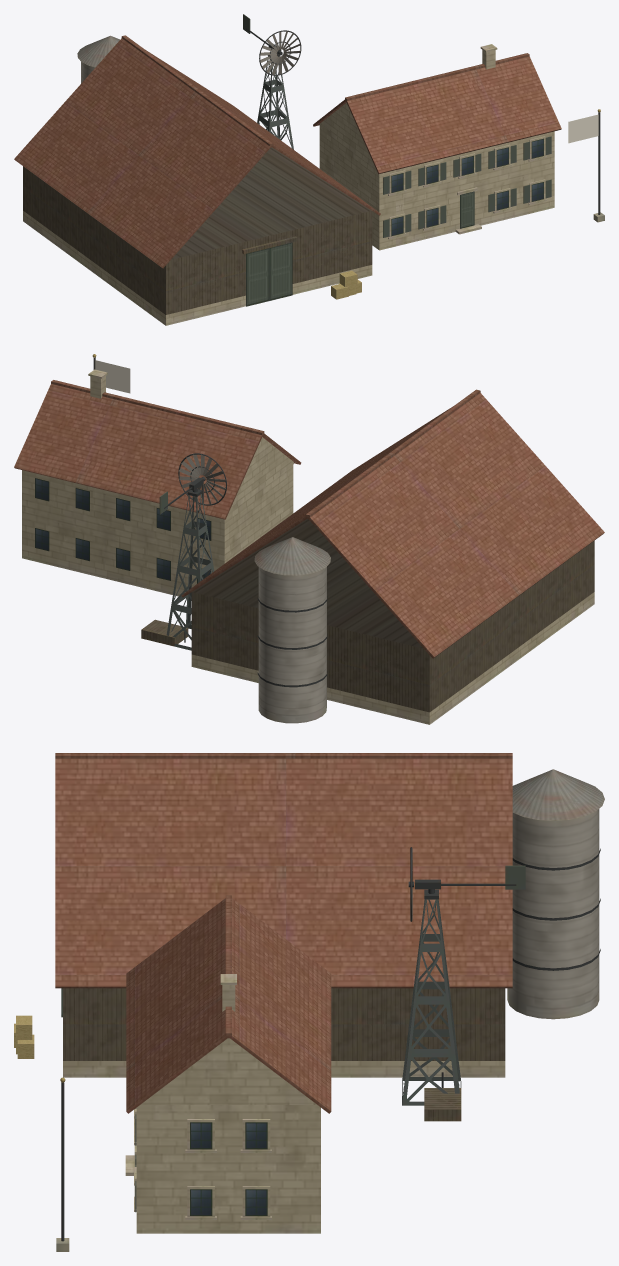
Rendered from farm.glb.
3 views of the same model, one above another, from view 1: azimuth 30°, elevation 25°; view 2: azimuth 150°, elevation 25°; view 3: azimuth 270°, elevation 25° (orthographic). The views are drawn at different scales.
Parts seen in each view (by area): view 1: grange, logis, pylone, eolienne_roue, drapeau; view 2: grange, logis, pylone, eolienne_roue, drapeau; view 3: grange, logis, pylone, eolienne_tete, hampe.
Part boxes in pixels (x1=…): grange: x1=14, y1=35, x2=380, y2=325; logis: x1=313, y1=44, x2=561, y2=250; pylone: x1=257, y1=54, x2=293, y2=149; eolienne_roue: x1=259, y1=30, x2=301, y2=75; drapeau: x1=568, y1=114, x2=598, y2=143; grange: x1=181, y1=389, x2=604, y2=724; logis: x1=14, y1=369, x2=301, y2=596; pylone: x1=141, y1=489, x2=214, y2=650; eolienne_roue: x1=178, y1=453, x2=226, y2=505; drapeau: x1=95, y1=360, x2=130, y2=393; grange: x1=14, y1=753, x2=604, y2=1077; logis: x1=125, y1=895, x2=331, y2=1233; pylone: x1=402, y1=889, x2=461, y2=1121; eolienne_tete: x1=415, y1=865, x2=525, y2=893; hampe: x1=56, y1=1077, x2=69, y2=1251.
Size of the model in its own units: 42.98 by 14.68 by 32.05.
17 materials, 16 textured.
